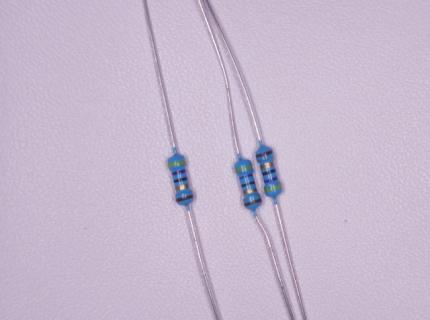Black band: (173, 176, 188, 184), (240, 181, 256, 188), (262, 169, 277, 176)
Brown band: (244, 198, 262, 207), (176, 195, 193, 203), (256, 150, 273, 158)
Gold band: (260, 161, 275, 170), (175, 183, 190, 191), (243, 187, 257, 195)
Violet band: (264, 176, 279, 184), (172, 169, 187, 176), (239, 173, 253, 180)
Yellow band: (264, 184, 283, 193), (168, 160, 187, 168), (235, 164, 253, 172)
